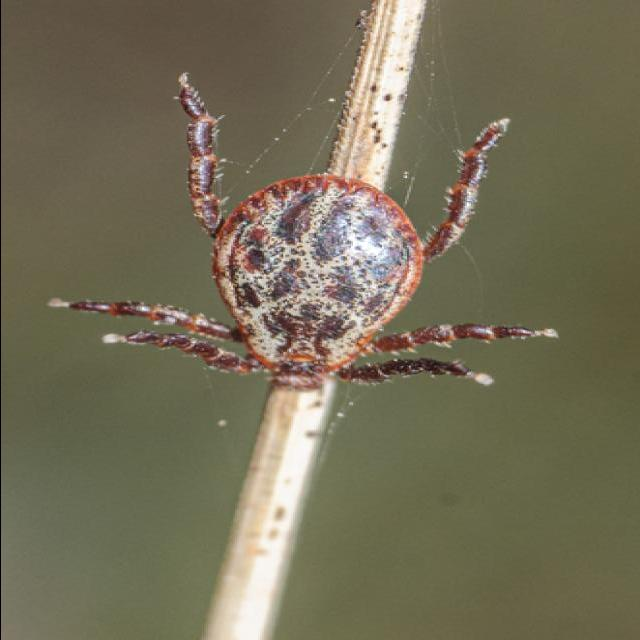Dermacentor Reticulatus-M: (47, 74, 557, 389)
